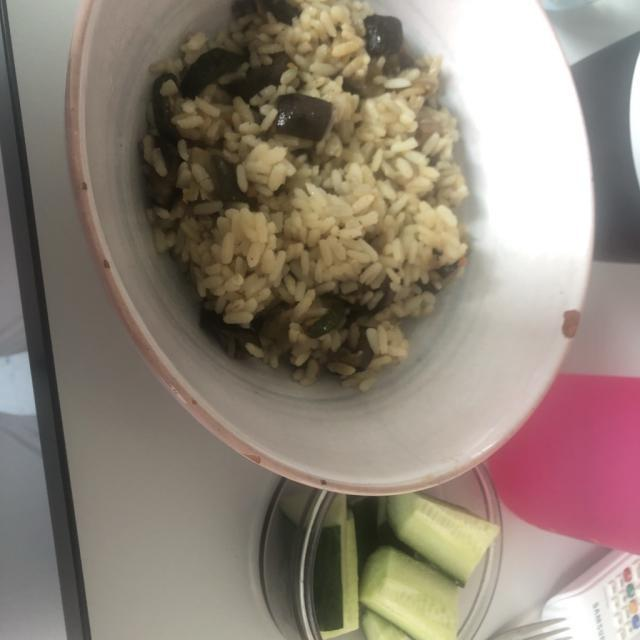cucumber: (323, 496, 495, 637)
eggplant: (135, 7, 417, 394)
rice: (149, 1, 463, 381)
